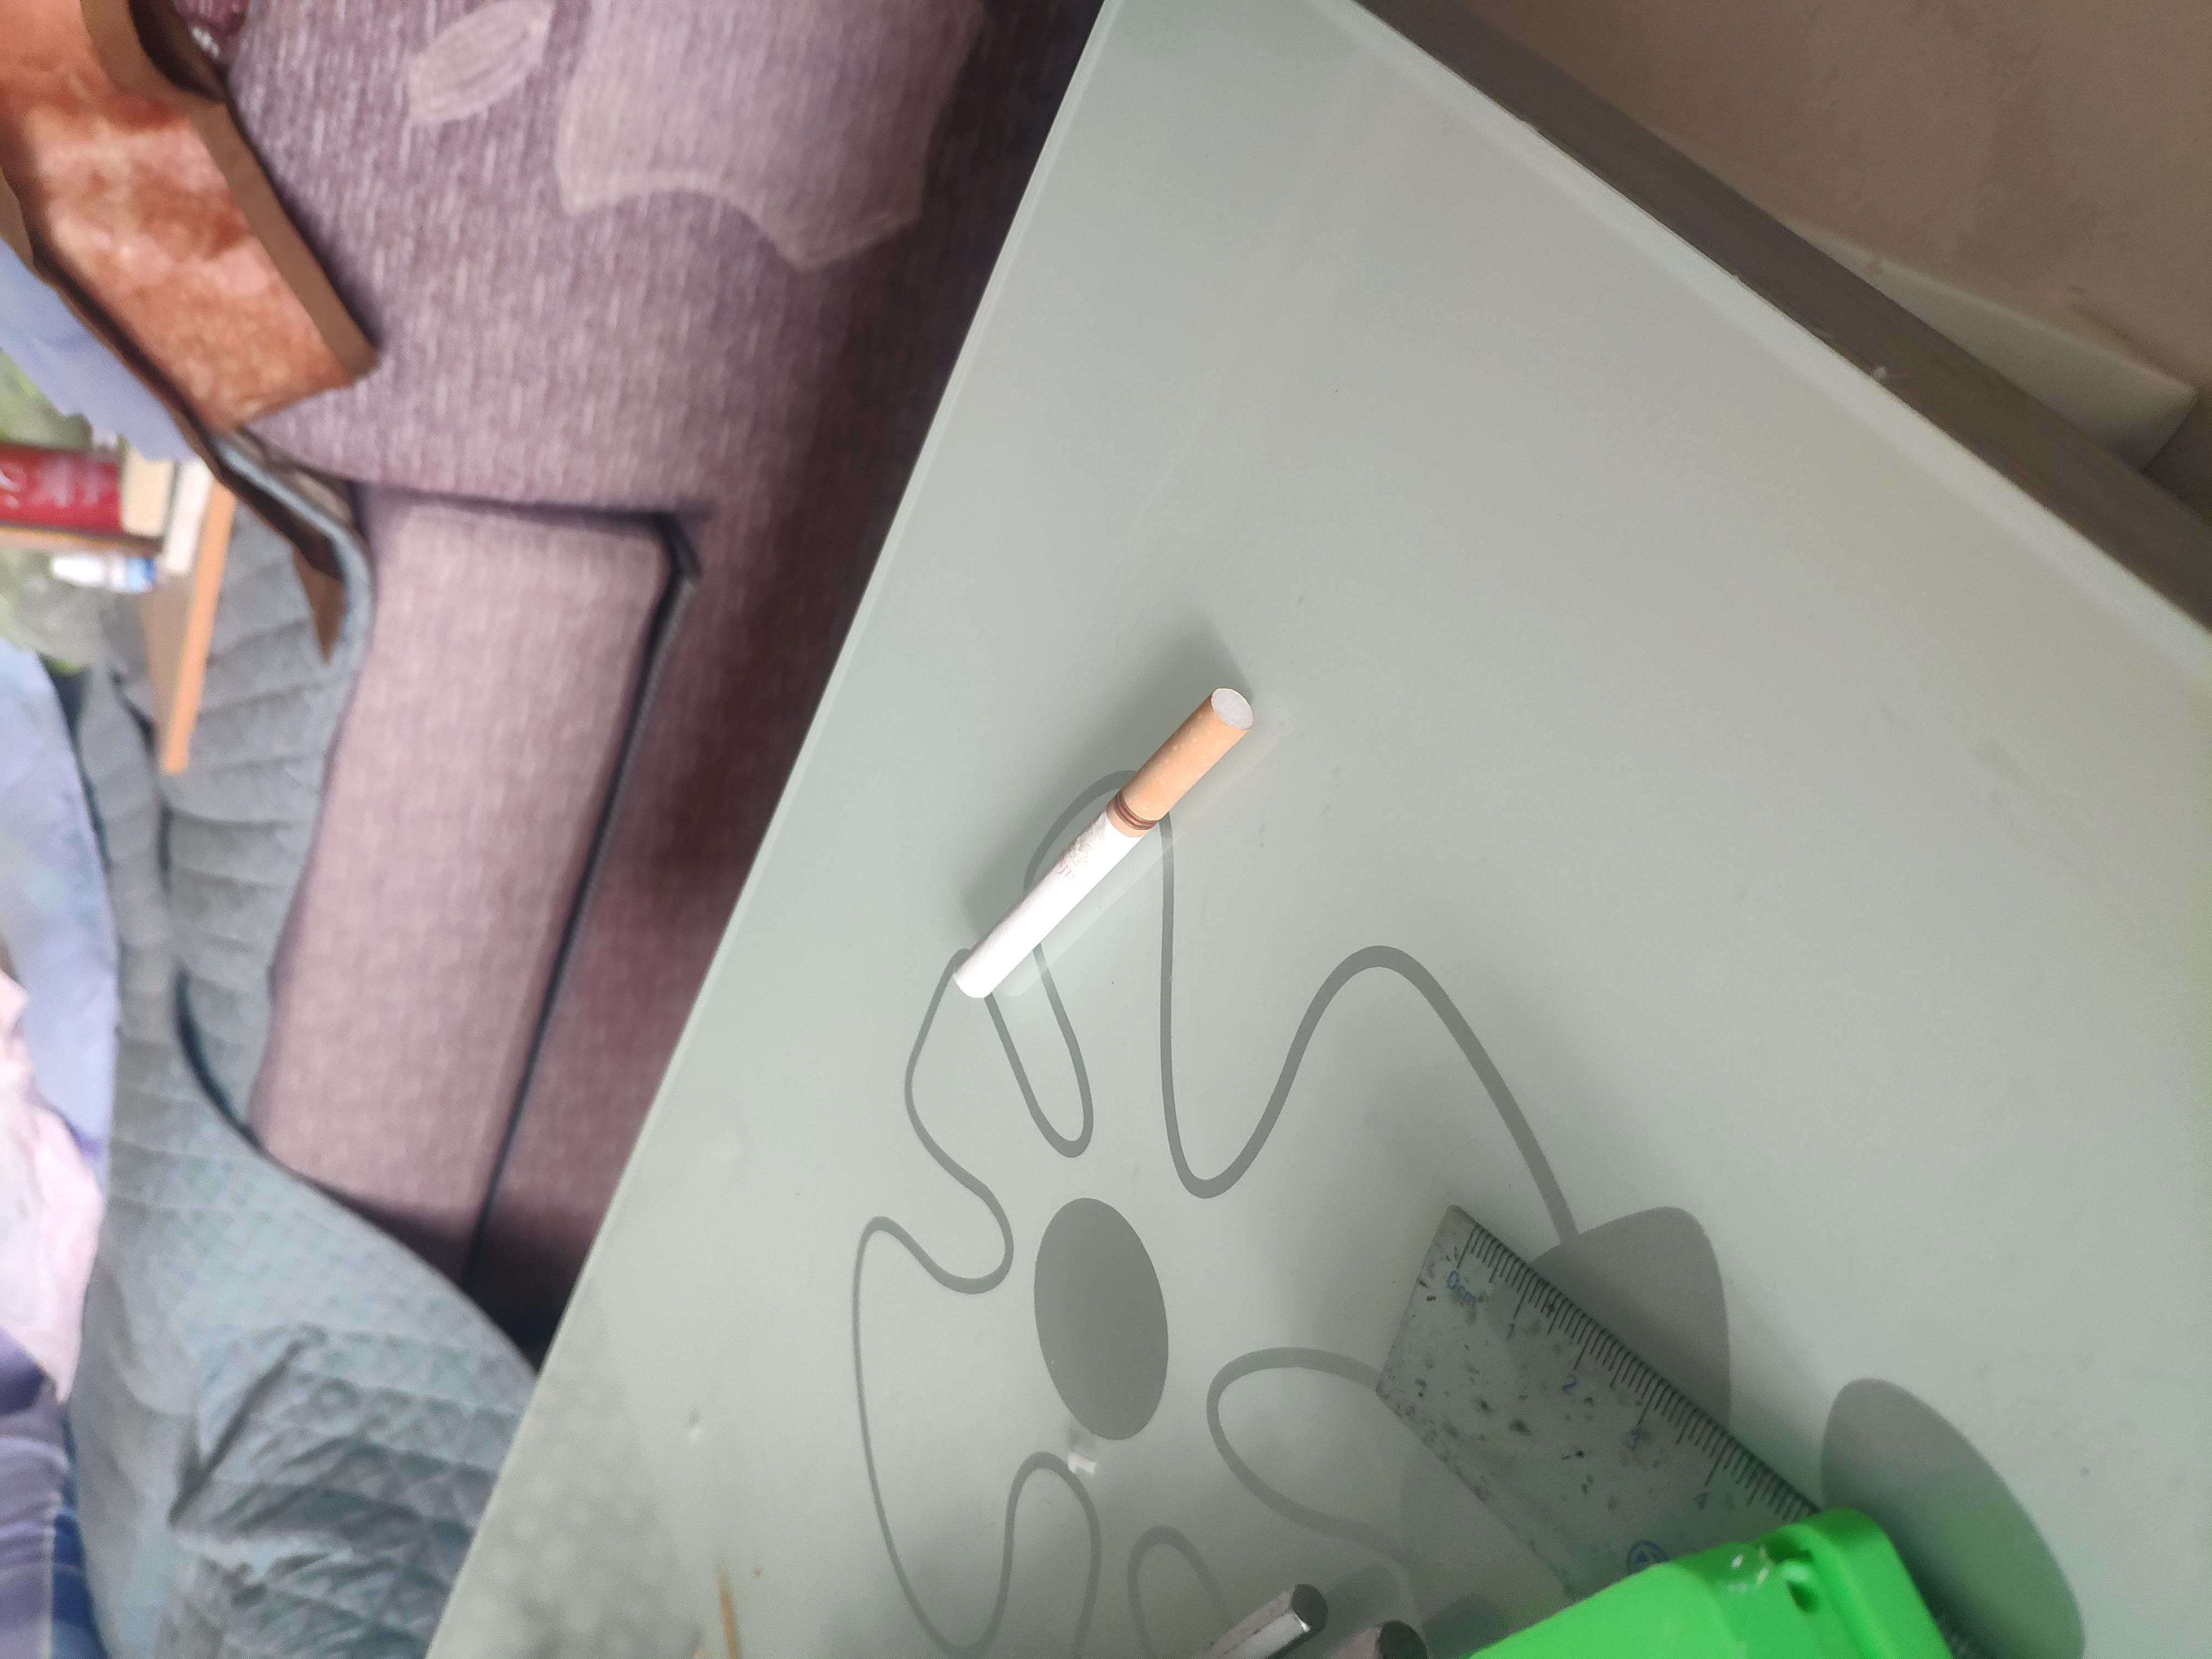smoke: (878, 714, 1304, 943)
